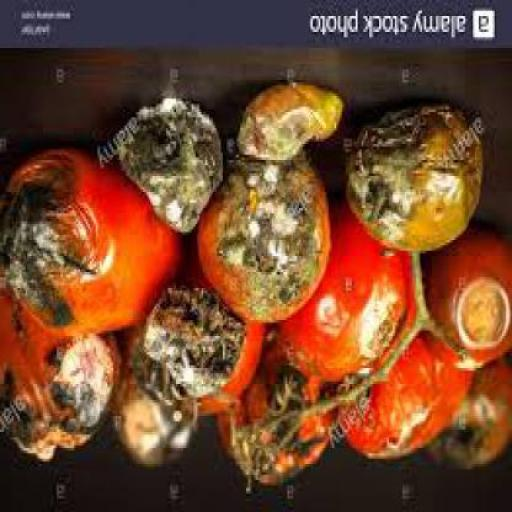biodegradable: (1, 150, 186, 342), (128, 242, 272, 430), (274, 197, 412, 386), (198, 149, 336, 331), (2, 282, 125, 464), (348, 110, 486, 256), (338, 326, 479, 464), (219, 358, 339, 490), (117, 105, 226, 240), (426, 227, 511, 379), (110, 334, 200, 472), (148, 288, 247, 402), (427, 357, 511, 476), (242, 86, 348, 163)
